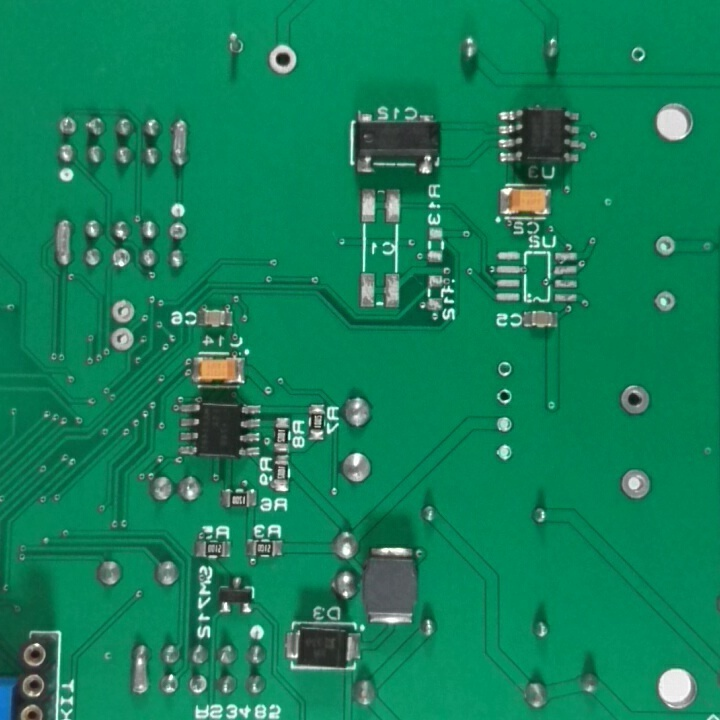F: (618, 466, 653, 503), (266, 41, 301, 77), (619, 381, 653, 416), (108, 297, 139, 325), (106, 326, 138, 353), (649, 232, 678, 260), (222, 29, 247, 61), (108, 243, 133, 274), (187, 669, 210, 698), (653, 289, 678, 315), (56, 113, 79, 140), (166, 219, 188, 245), (493, 415, 518, 435), (493, 443, 516, 464), (495, 360, 515, 380), (629, 44, 648, 65), (493, 388, 514, 406)
P: (127, 641, 153, 700), (51, 213, 76, 270), (169, 114, 192, 168)
